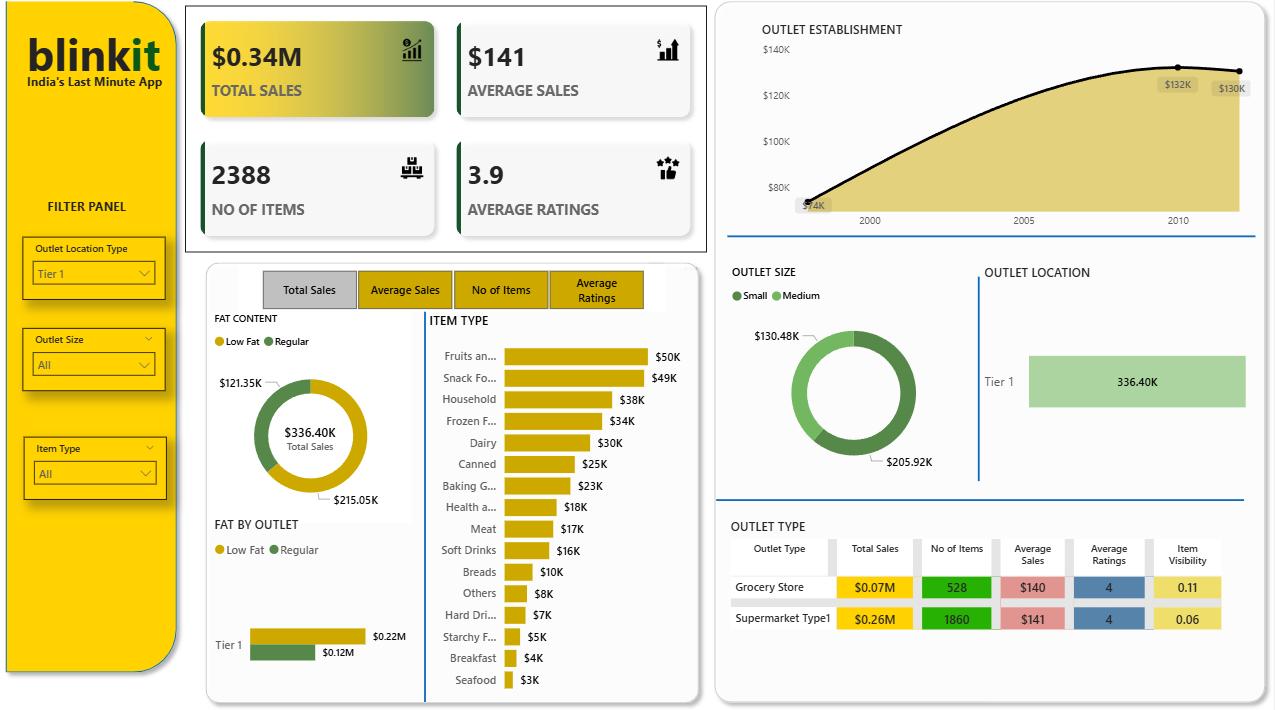

The dashboard page shown, as its layout file describes it:
{"tool":"powerbi","page":{"name":"Page 1","canvas":[1400,800],"ordinal":0},"visuals":[{"type":"shape","box":[8.6,0,204.3,750],"z":0},{"type":"textbox","box":[35.1,29.3,166.9,105.4],"z":1000},{"type":"textbox","box":[35.4,81.8,204.5,28.6],"z":2000},{"type":"cardVisual","fields":{"Data":["Blinkit_Grocery_Data.Total Sales","Blinkit_Grocery_Data.Average Sales","Blinkit_Grocery_Data.No of Items","Blinkit_Grocery_Data.Average Ratings"]},"box":[212.7,13.6,568.5,269.9],"z":3000},{"type":"shape","box":[225.7,284.3,555.7,498.6],"z":4000},{"type":"donutChart","title":"FAT CONTENT","fields":{"Y":["Blinkit_Grocery_Data.Total Sales"],"Category":["Blinkit_Grocery_Data.Item Fat Content"]},"box":[240,347.1,220,230],"z":5000},{"type":"slicer","fields":{"Values":["Metrices.Metrices"]},"box":[271.4,295.7,465.7,51],"z":6000},{"type":"cardVisual","fields":{"Data":["Blinkit_Grocery_Data.Total Sales"]},"box":[298.6,448.6,101.4,75.7],"z":7000},{"type":"clusteredBarChart","title":"FAT BY OUTLET","fields":{"Y":["Blinkit_Grocery_Data.Total Sales"],"Category":["Blinkit_Grocery_Data.Outlet Location Type"],"Series":["Blinkit_Grocery_Data.Item Fat Content"]},"box":[240,570,220,230],"z":8000},{"type":"shape","box":[444.3,347.1,60,425.7],"z":9000},{"type":"barChart","title":"ITEM TYPE","fields":{"Y":["Blinkit_Grocery_Data.Total Sales"],"Category":["Blinkit_Grocery_Data.Item Type"]},"box":[474.3,347.1,294.3,425.7],"z":10000},{"type":"shape","box":[781.4,0,618.6,782.9],"z":11000},{"type":"lineChart","title":"OUTLET ESTABLISHMENT","fields":{"Category":["Blinkit_Grocery_Data.Outlet Establishment Year"],"Y":["Blinkit_Grocery_Data.Total Sales"]},"box":[837.1,30,542.9,235.7],"z":12000},{"type":"donutChart","title":"OUTLET SIZE","fields":{"Y":["Blinkit_Grocery_Data.Total Sales"],"Category":["Blinkit_Grocery_Data.Outlet Size"]},"box":[804.3,295.7,275.7,237.9],"z":13000},{"type":"shape","box":[1048.6,310,60,222.9],"z":14000},{"type":"funnel","title":"OUTLET LOCATION","fields":{"Y":["Sum(Blinkit_Grocery_Data.Sales)"],"Category":["Blinkit_Grocery_Data.Outlet Location Type"]},"box":[1080,295.7,300,237.9],"z":15000},{"type":"shape","box":[804.3,245.7,575.7,40],"z":16000},{"type":"shape","box":[791.4,532.9,575.7,40],"z":17000},{"type":"pivotTable","title":"OUTLET TYPE","fields":{"Rows":["Blinkit_Grocery_Data.Outlet Type"],"Values":["Blinkit_Grocery_Data.Total Sales","Blinkit_Grocery_Data.No of Items","Blinkit_Grocery_Data.Average Sales","Blinkit_Grocery_Data.Average Ratings","Avg(Blinkit_Grocery_Data.Item Visibility)"]},"box":[802.9,572.9,562.9,227.1],"z":18000},{"type":"slicer","fields":{"Values":["Blinkit_Grocery_Data.Outlet Location Type"]},"box":[35.7,265.7,155.7,68.6],"z":19000},{"type":"slicer","fields":{"Values":["Blinkit_Grocery_Data.Outlet Size"]},"box":[35.7,365.7,155.7,68.6],"z":20000},{"type":"slicer","fields":{"Values":["Blinkit_Grocery_Data.Item Type"]},"box":[37.1,484.3,155.7,68.6],"z":21000},{"type":"textbox","box":[50,218.6,108.6,34.3],"z":22000}]}

Visuals, with their boxes in screenshot pixels (x1, y1, x2, y2), scaled from the page's 1400x800 canvas onto the 1275x710 screenshot:
shape: bbox=(8, 0, 194, 666)
textbox: bbox=(32, 26, 184, 120)
textbox: bbox=(32, 73, 218, 98)
cardVisual - Blinkit_Grocery_Data.Total Sales x Blinkit_Grocery_Data.Average Sales: bbox=(194, 12, 711, 252)
shape: bbox=(206, 252, 712, 695)
"FAT CONTENT" donutChart: bbox=(219, 308, 419, 512)
slicer - Metrices.Metrices: bbox=(247, 262, 671, 308)
cardVisual - Blinkit_Grocery_Data.Total Sales: bbox=(272, 398, 364, 465)
"FAT BY OUTLET" clusteredBarChart: bbox=(219, 506, 419, 709)
shape: bbox=(405, 308, 459, 686)
"ITEM TYPE" barChart: bbox=(432, 308, 700, 686)
shape: bbox=(712, 0, 1274, 695)
"OUTLET ESTABLISHMENT" lineChart: bbox=(762, 27, 1257, 236)
"OUTLET SIZE" donutChart: bbox=(732, 262, 984, 474)
shape: bbox=(955, 275, 1010, 473)
"OUTLET LOCATION" funnel: bbox=(984, 262, 1257, 474)
shape: bbox=(732, 218, 1257, 254)
shape: bbox=(721, 473, 1245, 508)
"OUTLET TYPE" pivotTable: bbox=(731, 508, 1244, 709)
slicer - Blinkit_Grocery_Data.Outlet Location Type: bbox=(33, 236, 174, 297)
slicer - Blinkit_Grocery_Data.Outlet Size: bbox=(33, 325, 174, 385)
slicer - Blinkit_Grocery_Data.Item Type: bbox=(34, 430, 176, 491)
textbox: bbox=(46, 194, 144, 224)
